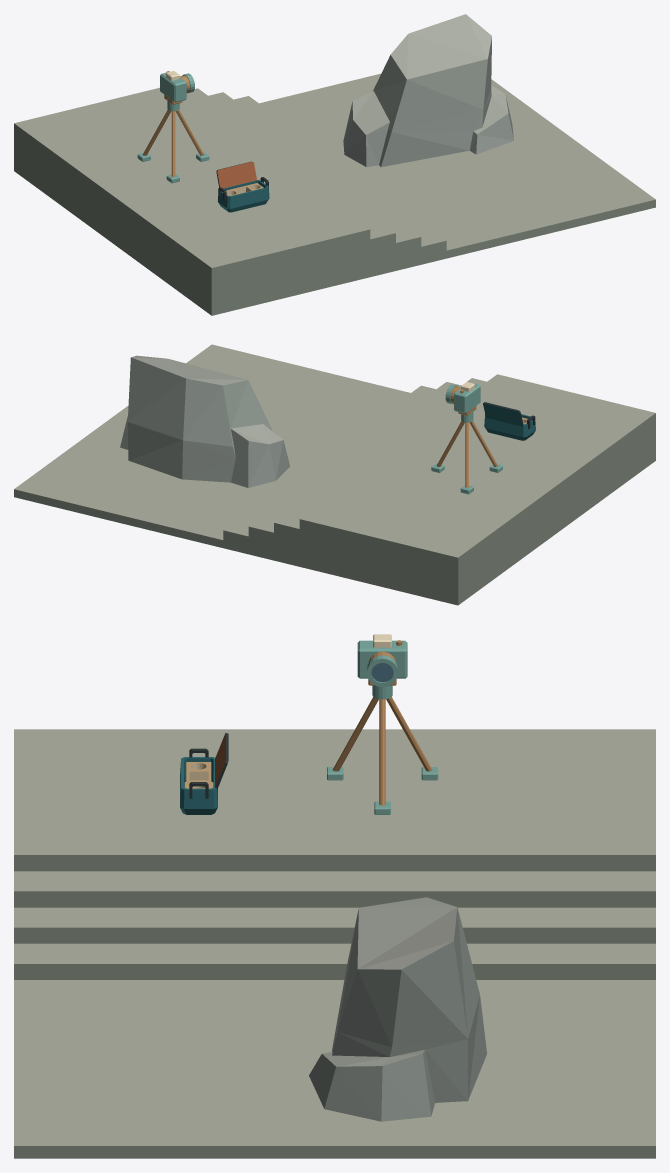
3 views of the same model, one above another, from view 1: azimuth 30°, elevation 25°; view 2: azimuth 150°, elevation 25°; view 3: azimuth 270°, elevation 25° (orthographic). The views are drawn at different scales.
Parts seen in each view (by area): view 1: SCENE_ONLY__OutdoorPhotographyGround, rock__nature-fractured-outcrop-01, camera__photography-tripod-camera-01, bag__Bag_ThickOpenShell, bag__Lid_FixedRaisedRear; view 2: SCENE_ONLY__OutdoorPhotographyGround, rock__nature-fractured-outcrop-01, camera__photography-tripod-camera-01, bag__Bag_ThickOpenShell, bag__Lid_FixedRaisedRear; view 3: SCENE_ONLY__OutdoorPhotographyGround, rock__nature-fractured-outcrop-01, camera__photography-tripod-camera-01, bag__Bag_ThickOpenShell.
Boxes of the visible parts, x1=… form: SCENE_ONLY__OutdoorPhotographyGround: x1=14, y1=73, x2=655, y2=315; rock__nature-fractured-outcrop-01: x1=343, y1=14, x2=513, y2=167; camera__photography-tripod-camera-01: x1=137, y1=71, x2=209, y2=183; bag__Bag_ThickOpenShell: x1=217, y1=180, x2=269, y2=212; bag__Lid_FixedRaisedRear: x1=216, y1=161, x2=256, y2=188; SCENE_ONLY__OutdoorPhotographyGround: x1=14, y1=344, x2=655, y2=605; rock__nature-fractured-outcrop-01: x1=120, y1=355, x2=290, y2=487; camera__photography-tripod-camera-01: x1=431, y1=382, x2=502, y2=494; bag__Bag_ThickOpenShell: x1=484, y1=414, x2=535, y2=440; bag__Lid_FixedRaisedRear: x1=483, y1=402, x2=523, y2=426; SCENE_ONLY__OutdoorPhotographyGround: x1=14, y1=729, x2=655, y2=1158; rock__nature-fractured-outcrop-01: x1=309, y1=897, x2=486, y2=1121; camera__photography-tripod-camera-01: x1=327, y1=634, x2=438, y2=814; bag__Bag_ThickOpenShell: x1=180, y1=757, x2=217, y2=814.
Size of the model in its own units: 7 by 2.12 by 5.4.
